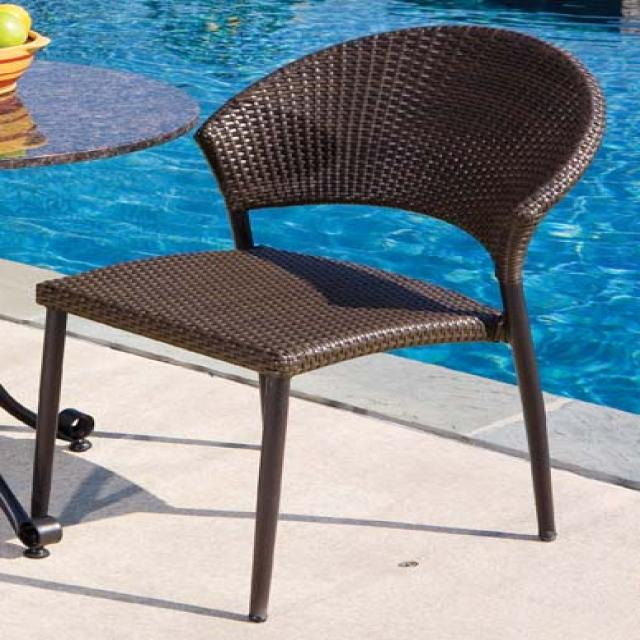chair: (36, 21, 604, 622)
